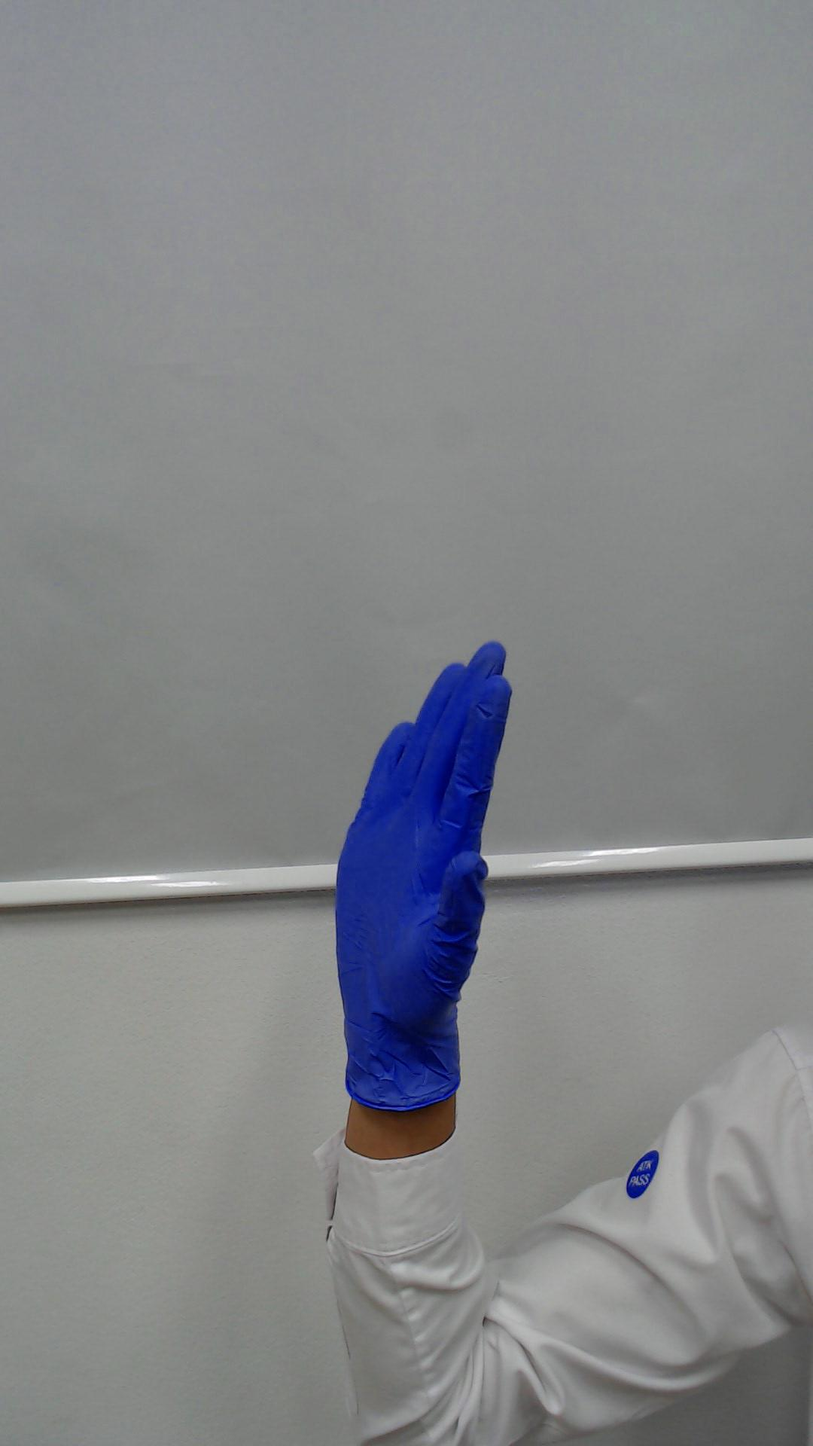gloves: (305, 598, 536, 1041)
